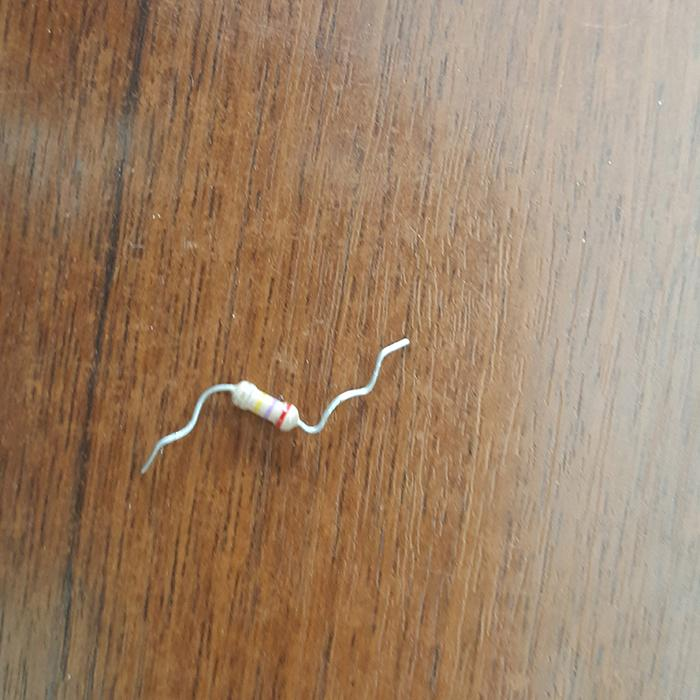resistor: (229, 379, 299, 432)
